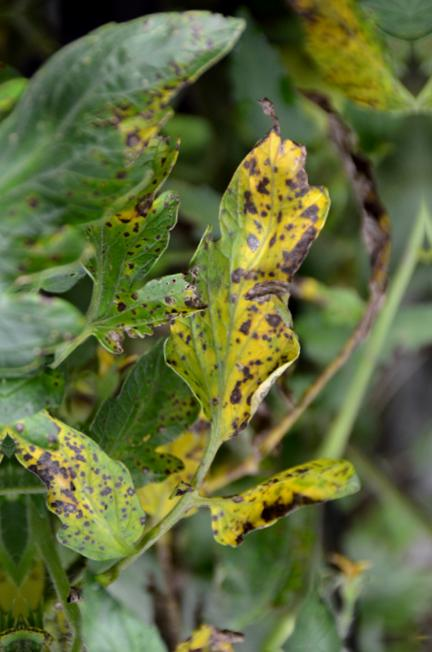Tomato Early blight leaf: (170, 133, 342, 448), (6, 407, 155, 570), (198, 459, 367, 545)
